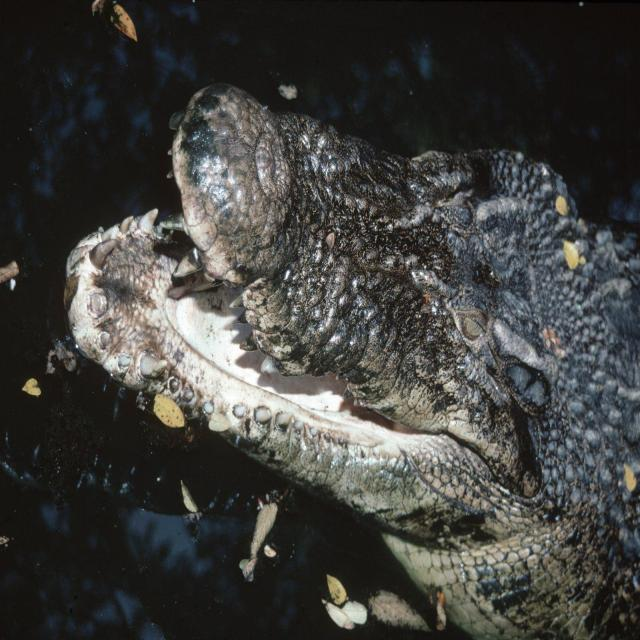crocodile: (36, 73, 640, 639)
